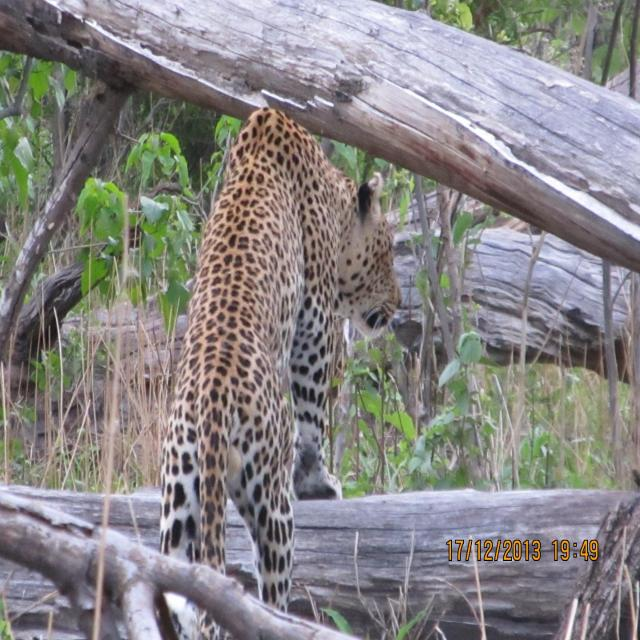Leopard: (133, 114, 405, 613)
